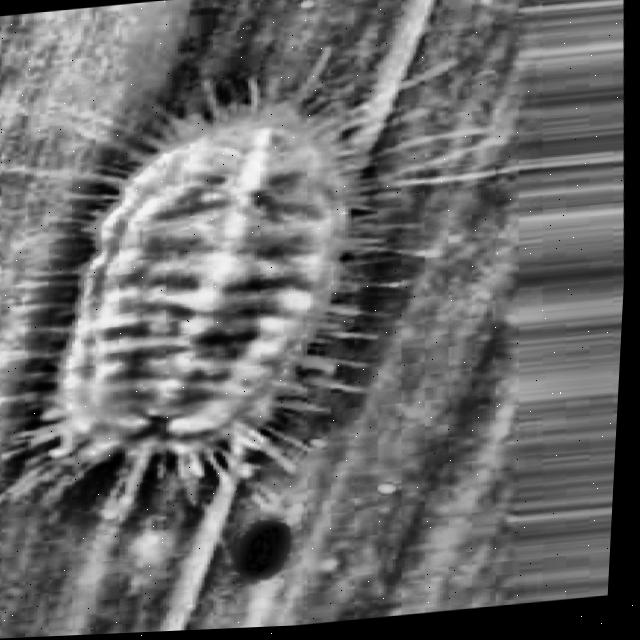Mealy-bug: (0, 57, 461, 530)
